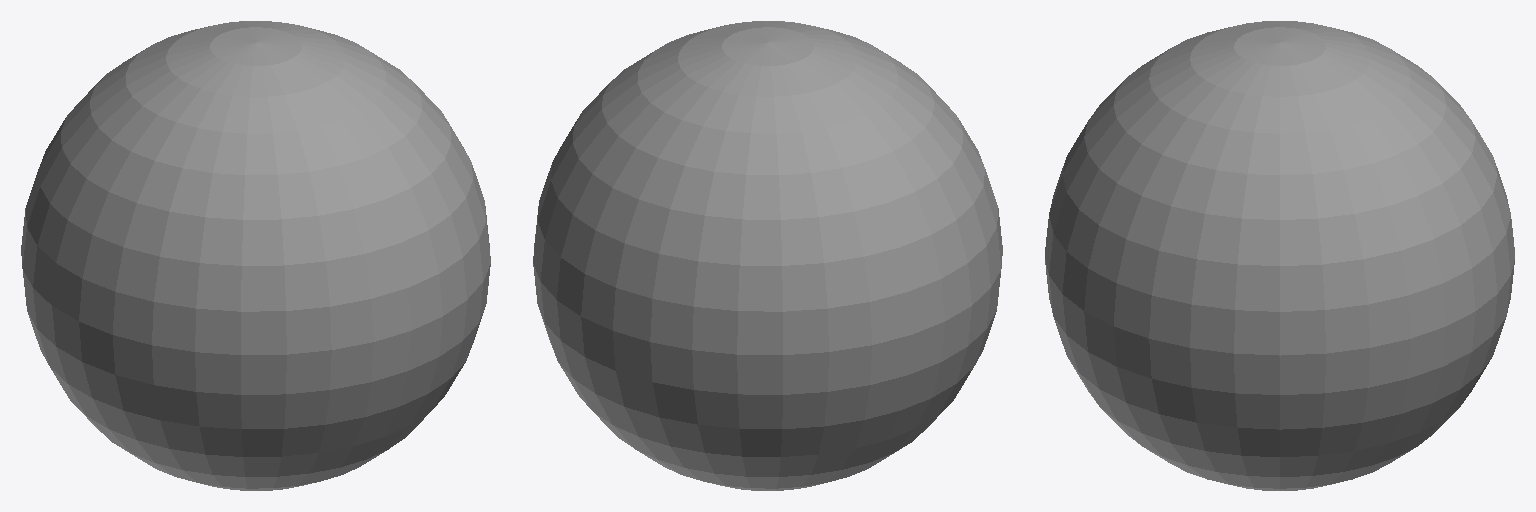
File: uranus.obj
3 renders of one model, left to right at view 1: azimuth 30°, elevation 25°; view 2: azimuth 150°, elevation 25°; view 3: azimuth 270°, elevation 25°, orthographic.
Visible parts, largest first — view 1: Urano_Mesh.005; view 2: Urano_Mesh.005; view 3: Urano_Mesh.005.
Boxes of the visible parts, x1,y1,x2,y2 form: Urano_Mesh.005: [21, 21, 490, 490]; Urano_Mesh.005: [533, 21, 1002, 490]; Urano_Mesh.005: [1045, 21, 1514, 490].
Bounding box in the file's own units: 22.91 × 22.91 × 22.91.